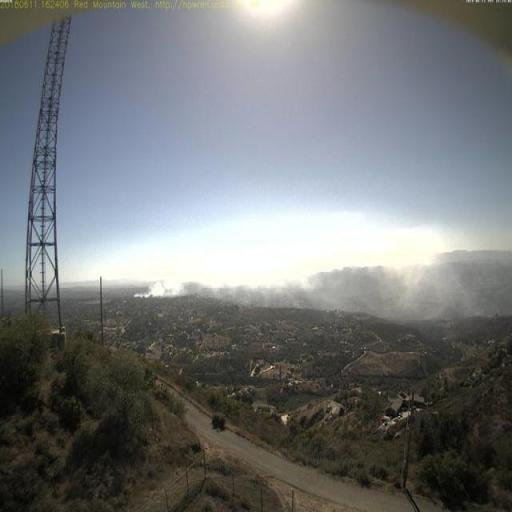smoke: (132, 250, 484, 326)
